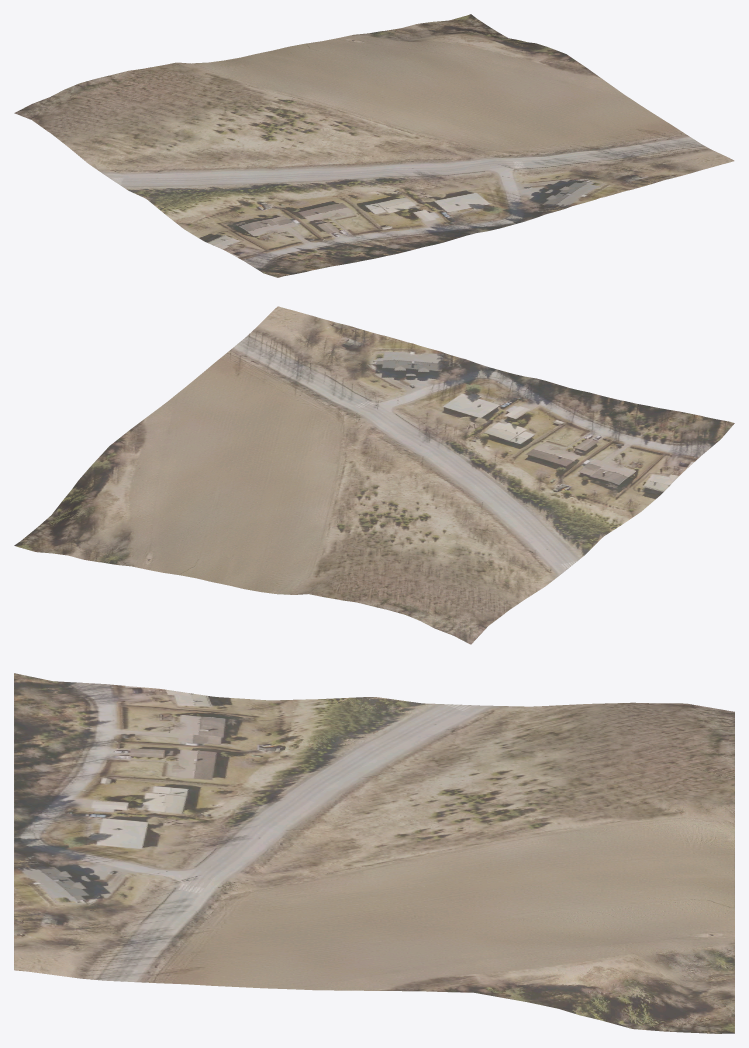
The model's file is CM_Terrain_24493326_6817132.fbx.
The picture shows the model from 3 angles, top to bottom: view 1: azimuth 30°, elevation 25°; view 2: azimuth 150°, elevation 25°; view 3: azimuth 270°, elevation 25°; orthographic projection. The views are drawn at different scales.
Parts seen in each view (by area): view 1: CM_Terrain_24493326_6817132_LOD0; view 2: CM_Terrain_24493326_6817132_LOD0; view 3: CM_Terrain_24493326_6817132_LOD0.
Boxes of the visible parts, x1,y1,x2,y2 form: CM_Terrain_24493326_6817132_LOD0: (14,14,734,277); CM_Terrain_24493326_6817132_LOD0: (14,306,734,644); CM_Terrain_24493326_6817132_LOD0: (14,673,734,1033).
Size of what is drawn, in the model's own units: 205 by 20.28 by 205.
